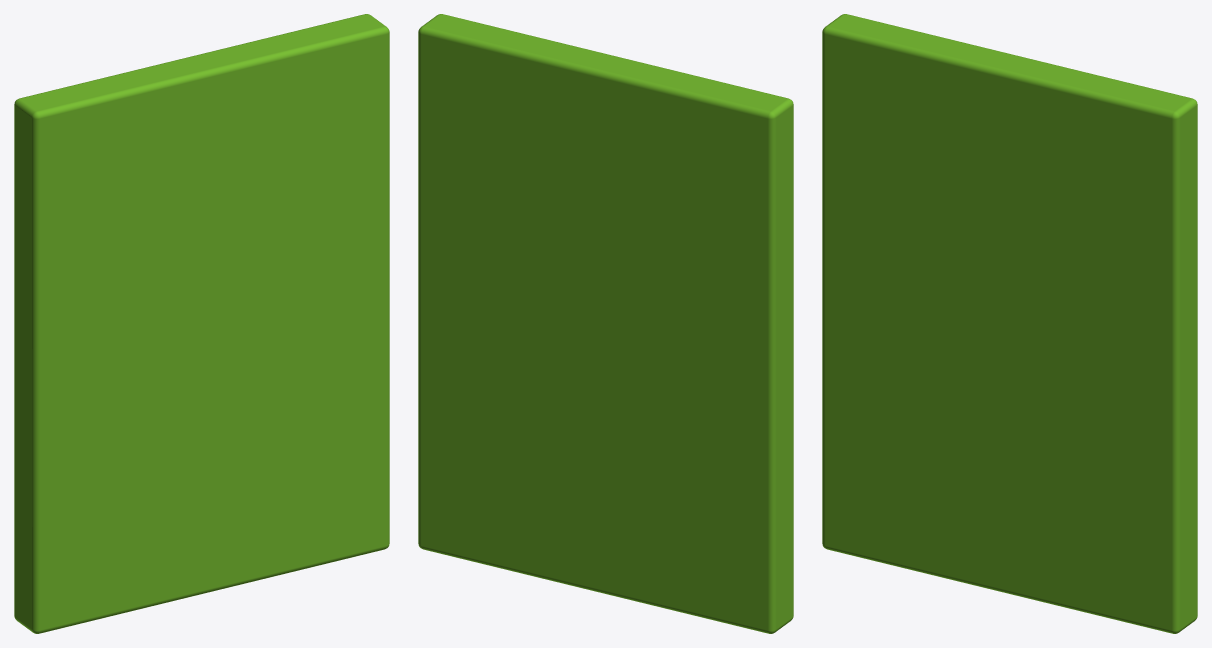
Rendered from xbox360-case.glb.
The picture shows the model from 3 angles, left to right: view 1: azimuth 30°, elevation 25°; view 2: azimuth 150°, elevation 25°; view 3: azimuth 330°, elevation 25°; orthographic projection.
Size of the model in its own units: 2.36 by 3.3 by 0.26.
